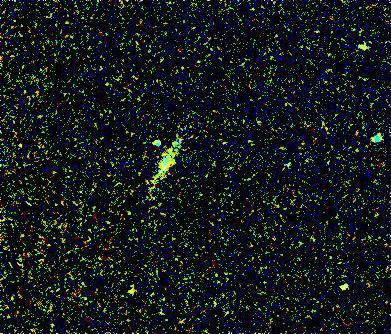star: (114, 275, 144, 305)
